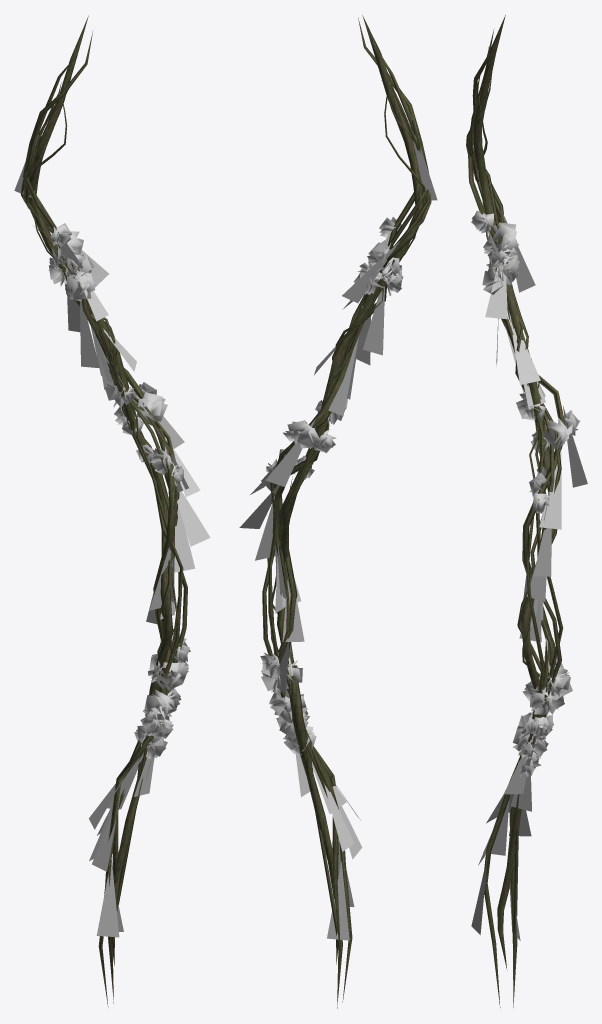
Rendered from Liana2_L3.fbx.
3 renders of one model, left to right at view 1: azimuth 30°, elevation 25°; view 2: azimuth 210°, elevation 25°; view 3: azimuth 330°, elevation 25°, orthographic.
Parts seen in each view (by area): view 1: polySurface42; view 2: polySurface42; view 3: polySurface42.
Boxes of the visible parts, <box> form: polySurface42: <box>14,15,210,1007</box>; polySurface42: <box>239,15,437,1008</box>; polySurface42: <box>466,15,587,1007</box>.
Size of the model in its own units: 214 by 1433 by 159.
